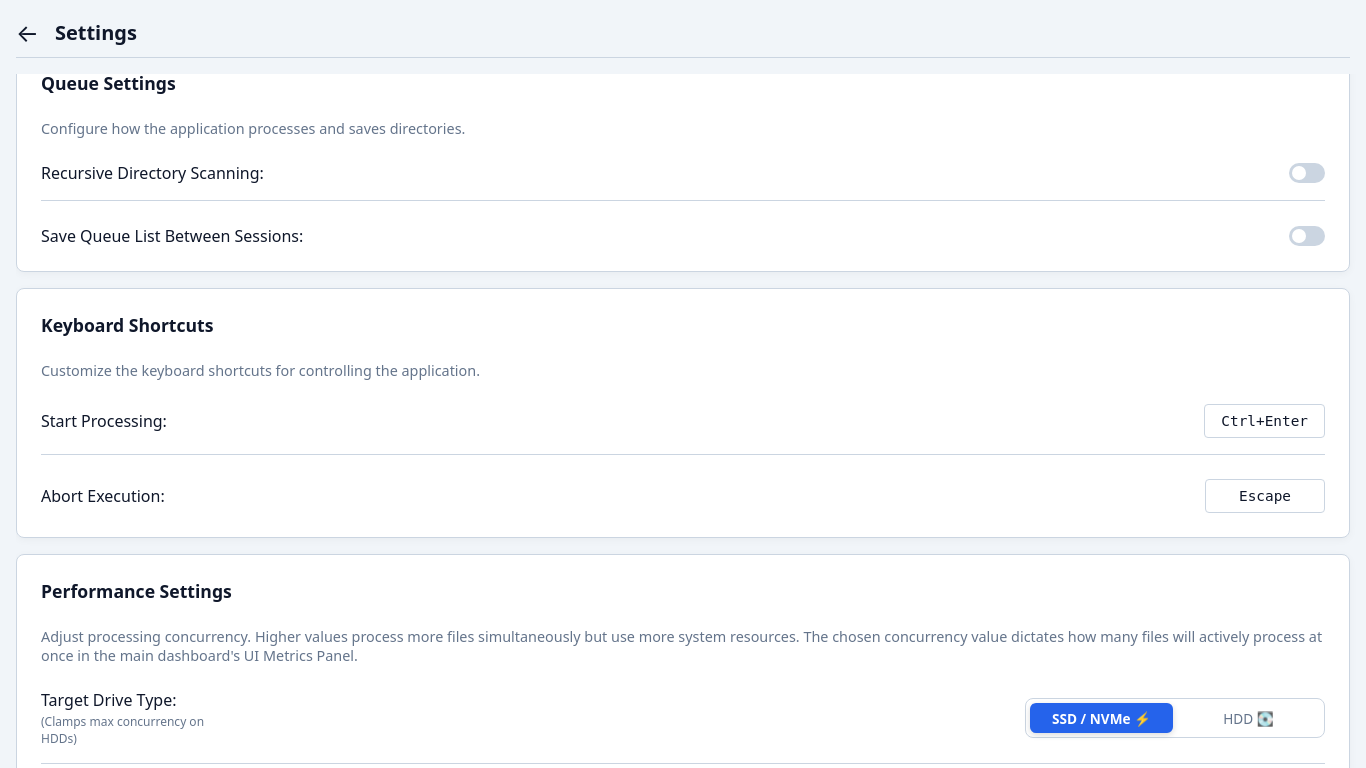
Scenario: Settings Page - Keyboard Shortcuts › rejects recording Ctrl+K and shows a toast
(page scrolled)
Click the button "Ctrl+Enter" at (1265, 421), box [1204,404,1325,438]
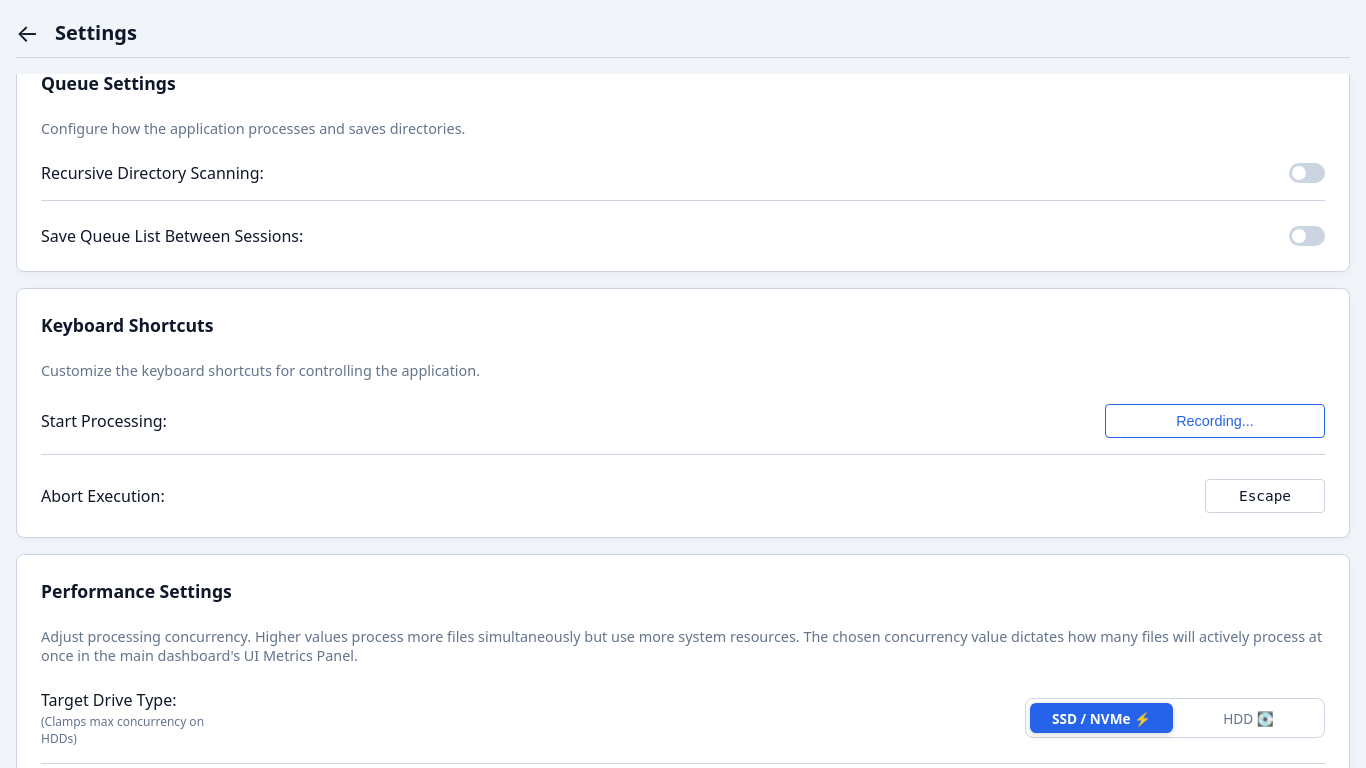
# Simulate pressing Ctrl + K
Press K in the field showing "Recording...", box [1105,404,1325,438]
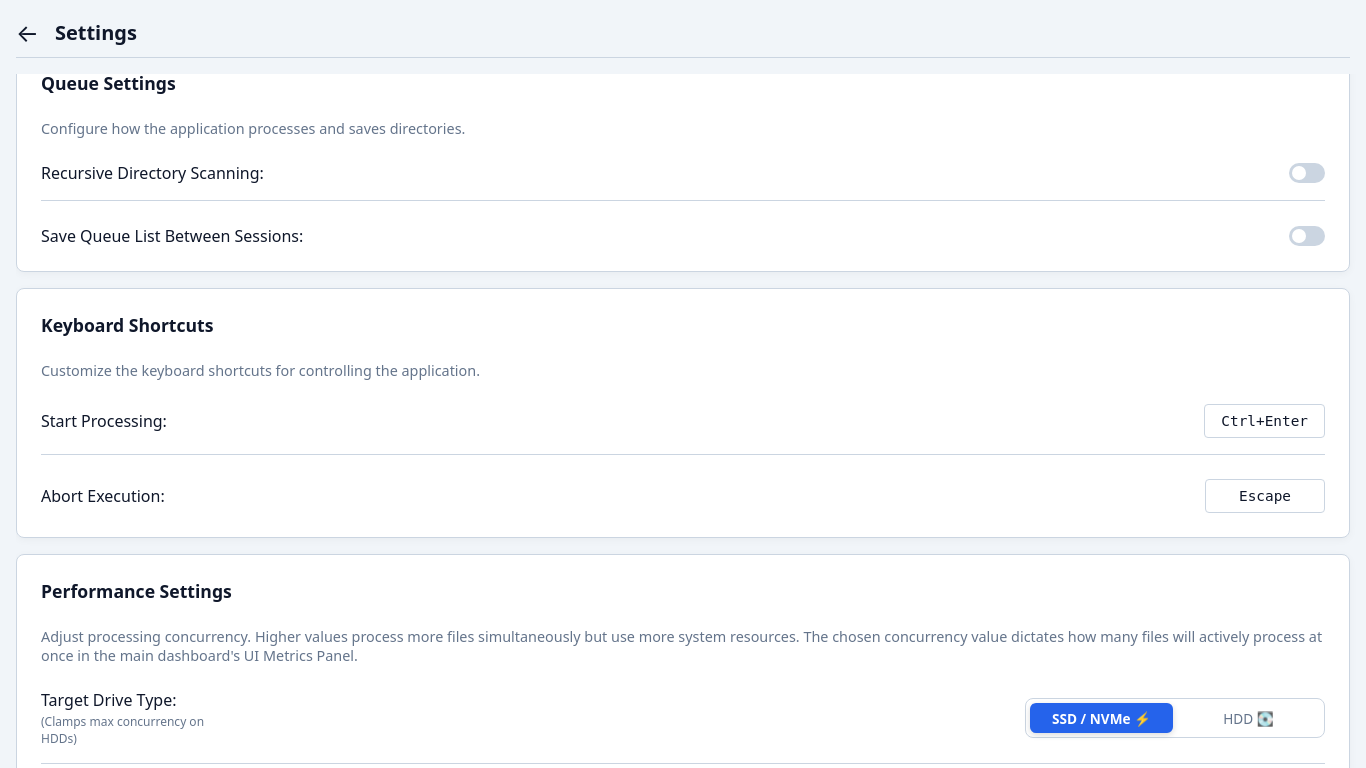
Result: the button "Ctrl+Enter" is shown at [1204,404,1325,438]
